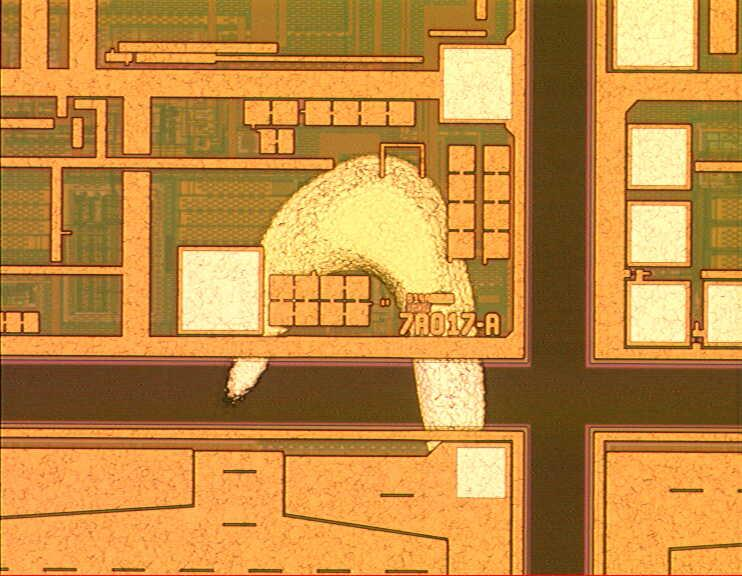BLOCK ETCH: (222, 151, 485, 459)
